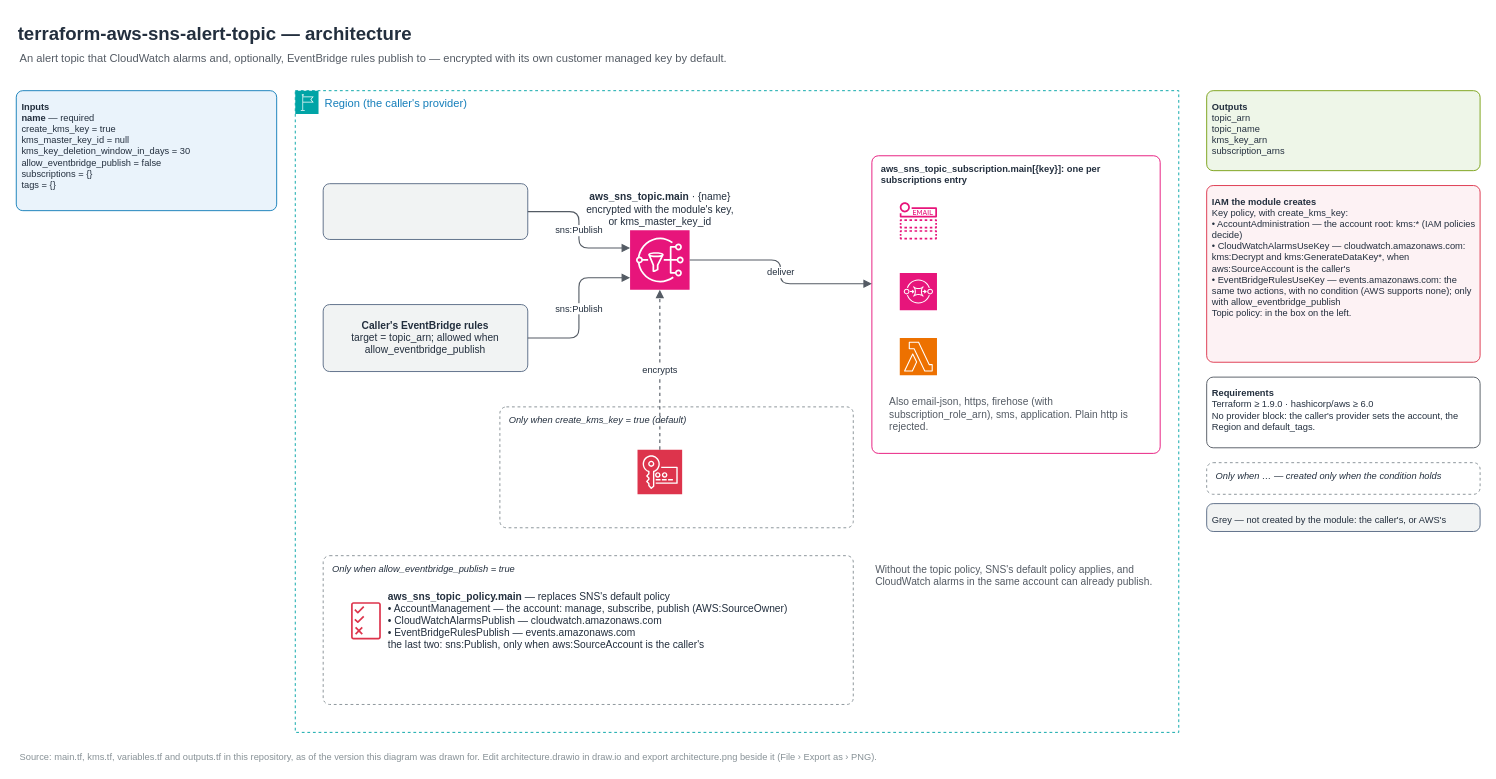
Some shapes in this 1496 by 779 pixel diagram are drawn without their labels. The centre of each missing label's shape, as x and y in pixels:
aws_kms_key.main alias/{name}-sns key rotation on 30-day deletion window: (x=659, y=471)
Caller's CloudWatch alarms alarm_actions = [topic_arn]: (x=425, y=211)
email — pending until the recipient confirms: (x=918, y=220)
lambda — a function: (x=918, y=356)
sqs — a queue: (x=918, y=291)
